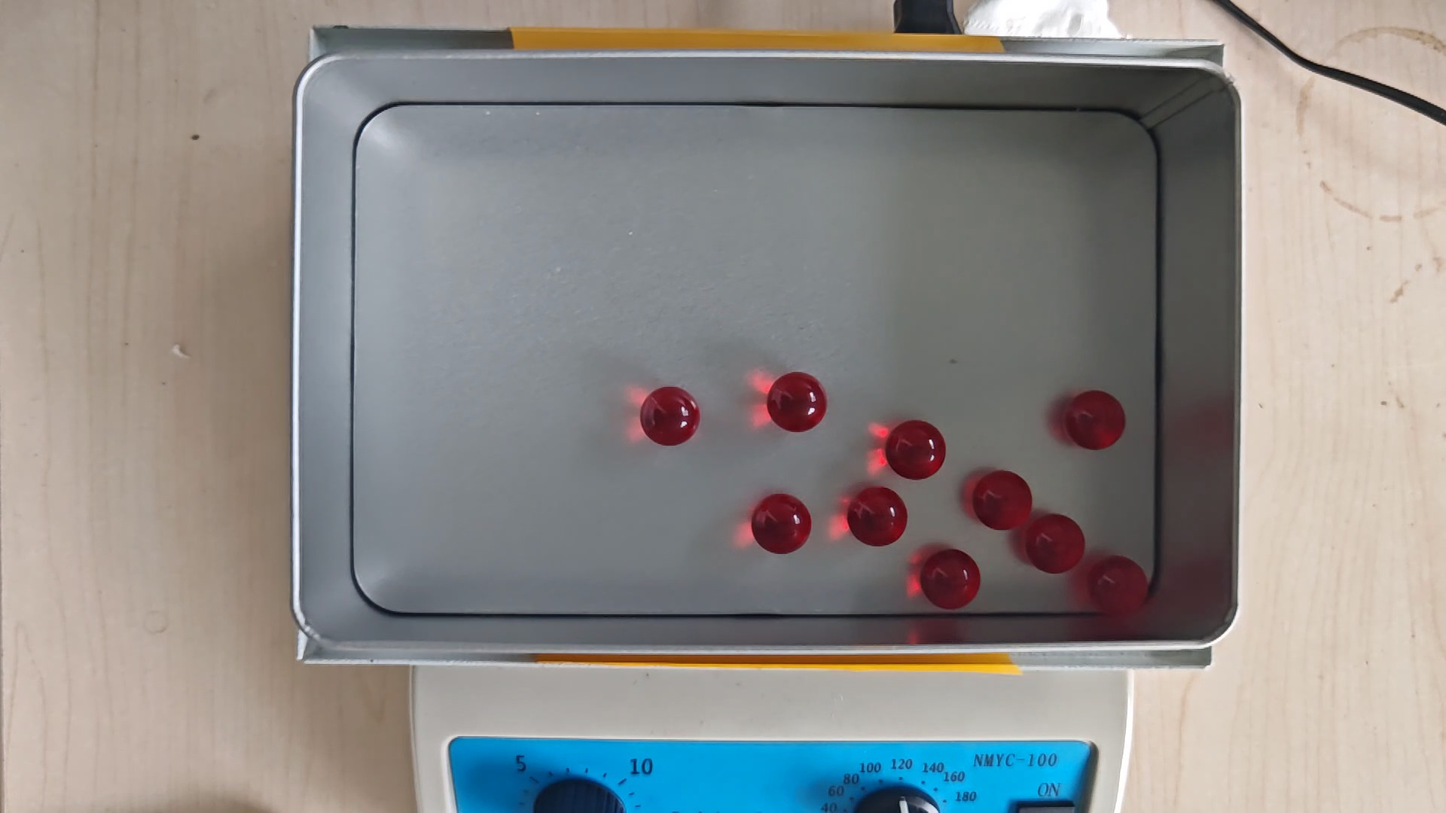ball: (1066, 389, 1127, 452), (1089, 556, 1150, 619), (972, 470, 1033, 531), (886, 419, 946, 481), (921, 548, 981, 610), (1026, 514, 1086, 575), (768, 371, 827, 433), (752, 493, 811, 555), (641, 385, 700, 447), (848, 486, 907, 547)
container: (349, 99, 1162, 617)
